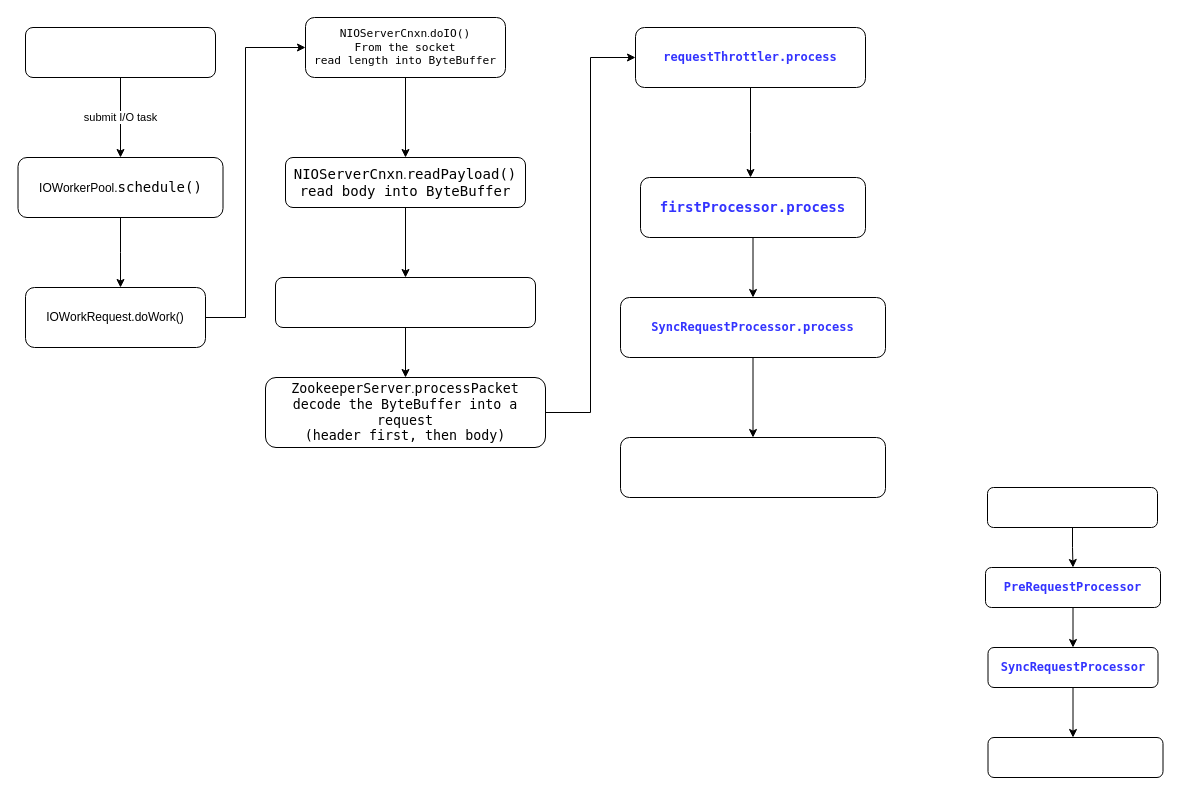
Some shapes in this 1180 by 795 pixel diagram are drawn without their labels. The centre of each missing label's shape, as x and y in pixels:
FinalRequestProcessor: point 1075,757
FinalRequestProcessor.process: point 753,467
RequestThrottler: point 1072,507
SelectorThread.handleIO() gets the read-ready SelectionKey: point 120,52
ZookeeperServer . readRequest(): point 405,302
